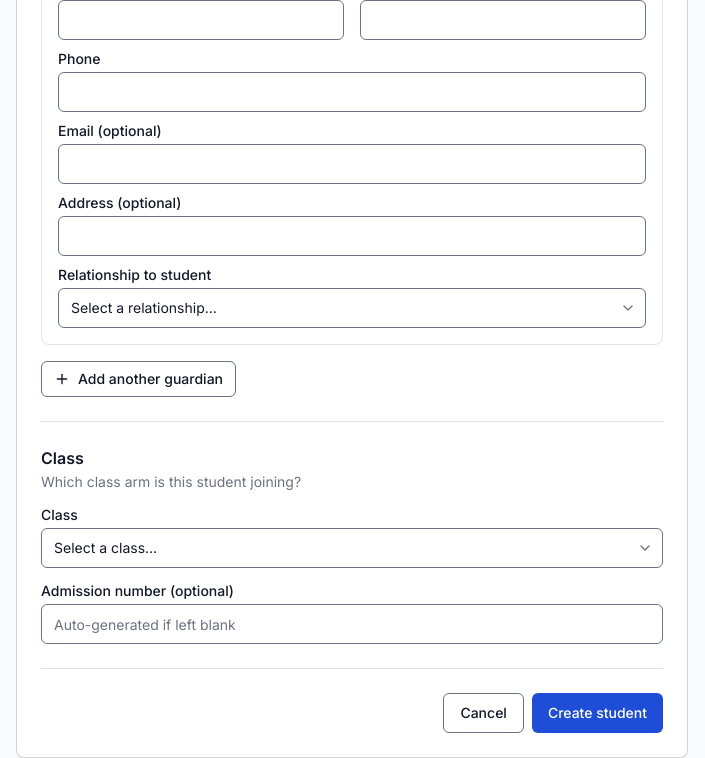
Test case: NewStudentPage › shows per-field validation errors when submitted empty
This screenshot has width=705, height=758.
(page scrolled)
Click the button "Create student".
click(597, 713)  # box [532,693,663,733]
(page scrolled)
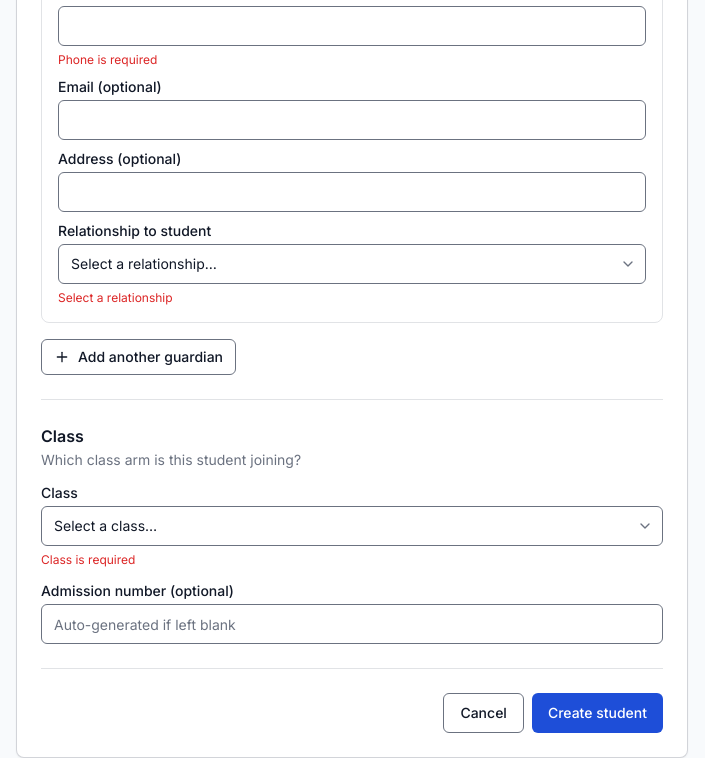
Result: the text "Select a relationship" is shown at [58,290,173,305]
Result: the text "Class is required" is shown at [41,552,135,567]
